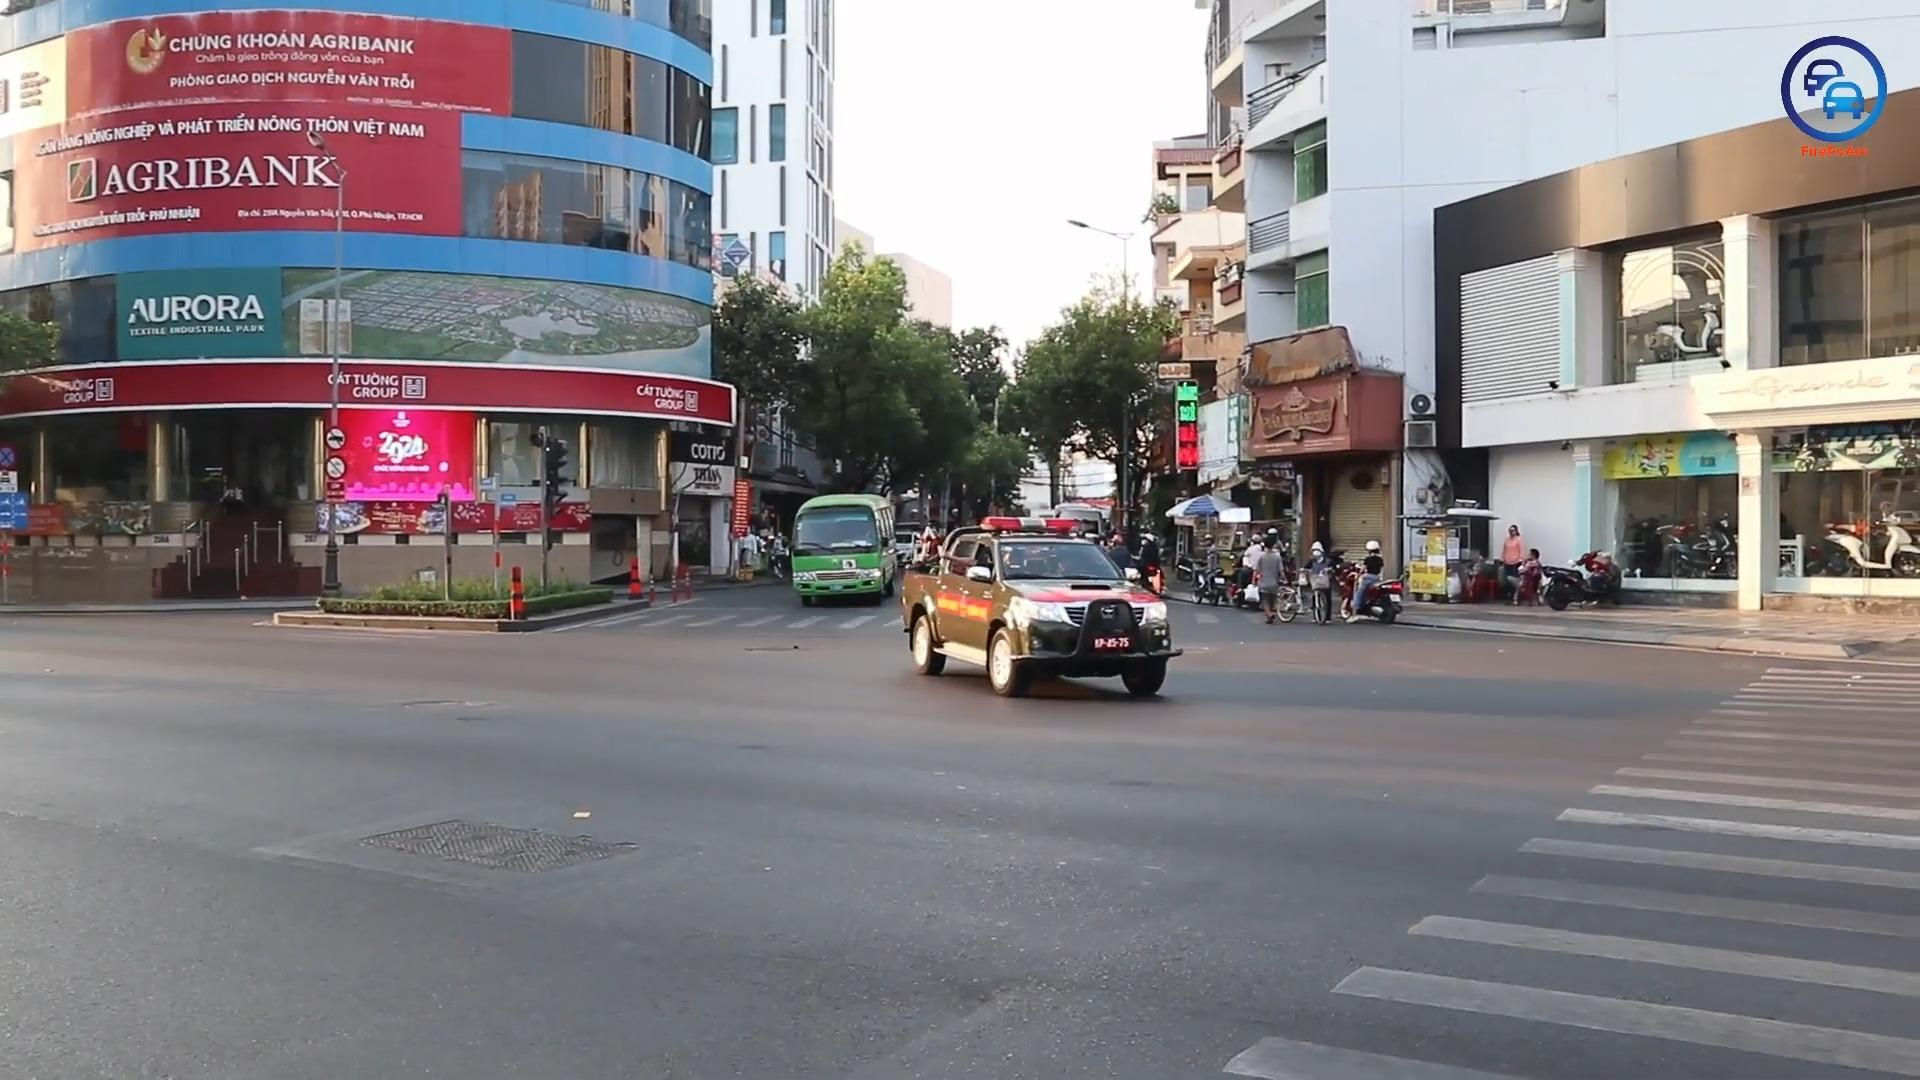bien_so: (1091, 635, 1132, 651)
